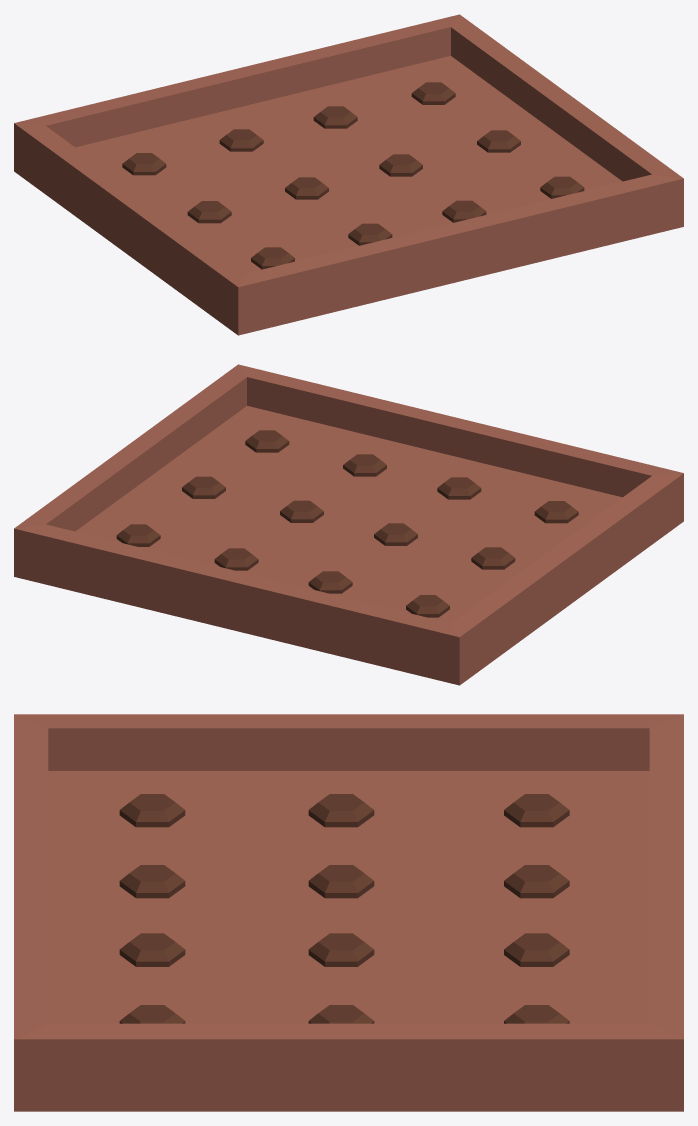
File: clinicpuzzle1.fbx
3 views of the same model, one above another, from view 1: azimuth 30°, elevation 25°; view 2: azimuth 150°, elevation 25°; view 3: azimuth 270°, elevation 25° (orthographic). The views are drawn at different scales.
Visible parts, largest first — view 1: clinic puzzle1; view 2: clinic puzzle1; view 3: clinic puzzle1.
Boxes of the visible parts, <box> form: clinic puzzle1: <box>14,14,683,335</box>; clinic puzzle1: <box>14,364,683,685</box>; clinic puzzle1: <box>14,714,683,1111</box>.
Bounding box in the file's own units: 462 × 48.53 × 403.
